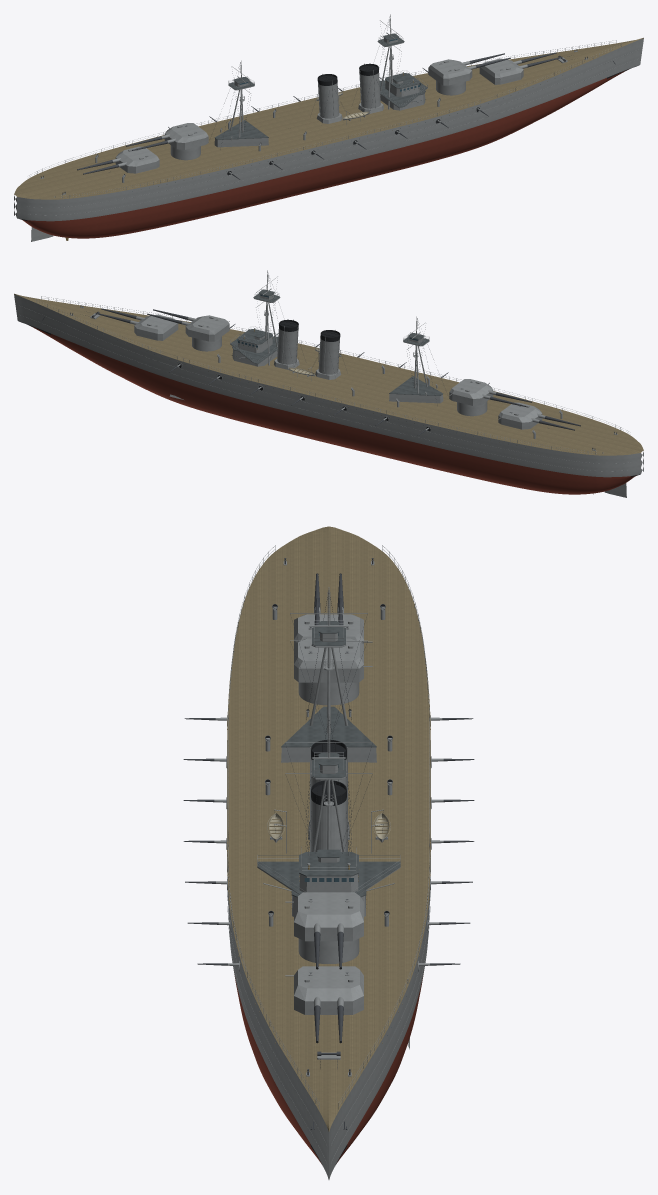
File: queen_elizabeth.glb
The picture shows the model from 3 angles, top to bottom: view 1: azimuth 30°, elevation 25°; view 2: azimuth 150°, elevation 25°; view 3: azimuth 270°, elevation 25°; orthographic projection. The views are drawn at different scales.
Parts seen in each view (by area): view 1: Queen Elizabeth class; view 2: Queen Elizabeth class; view 3: Queen Elizabeth class.
Boxes of the visible parts, box(x1,y1,x2,y2) form: Queen Elizabeth class: box(14, 14, 643, 241); Queen Elizabeth class: box(14, 270, 643, 497); Queen Elizabeth class: box(183, 526, 474, 1179).
Size of the model in its own units: 197 by 42.67 by 39.46.
9 materials, 8 textured.
